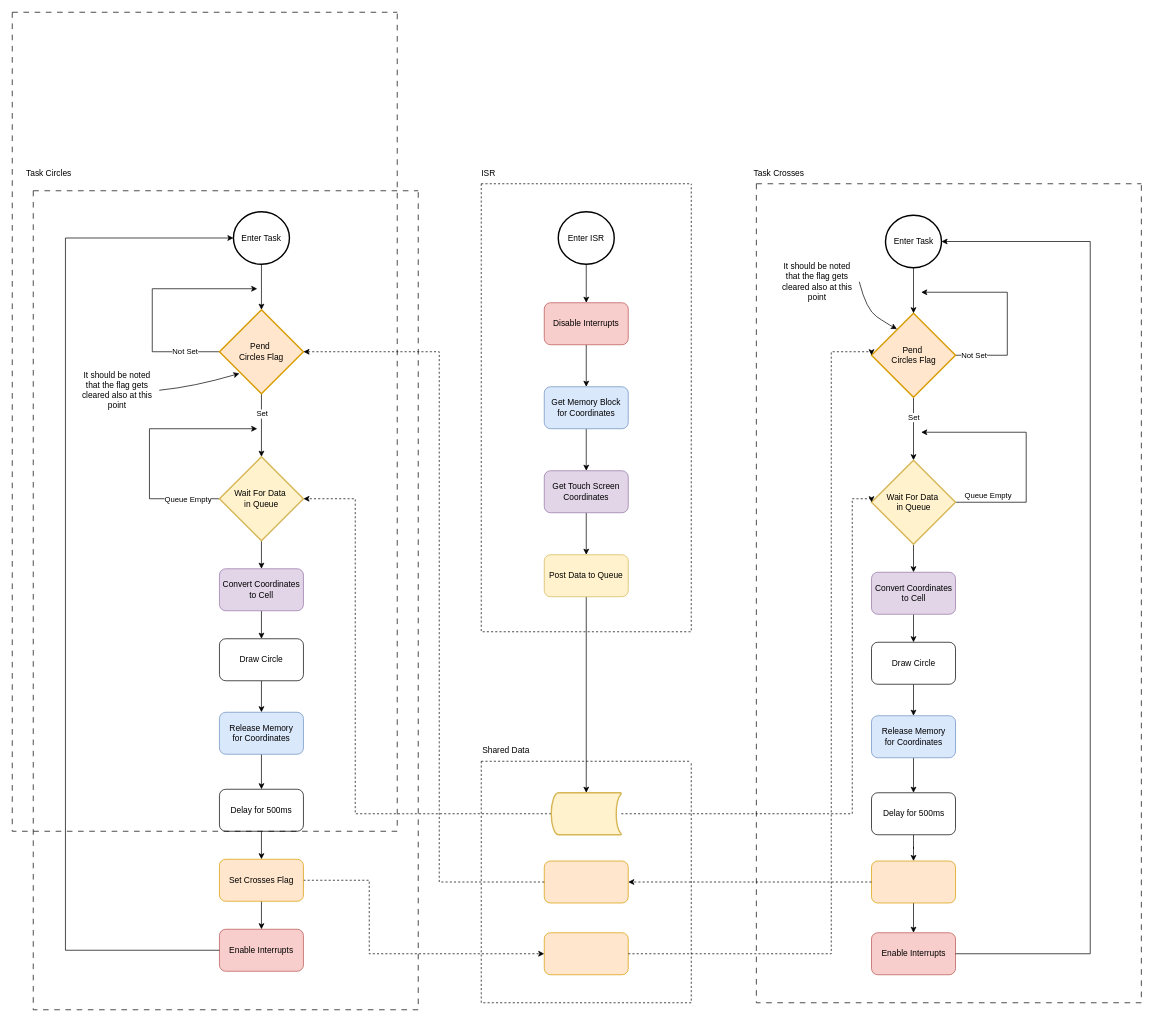
Image size: 1154x1022. Some labels were removed from this diagram. Each missing label, with the centre of its shape:
Circles Flag: point (586, 881)
Crosses Flag: point (586, 953)
Set Circles Flag: point (913, 881)
Touch Screen Queue: point (586, 813)
